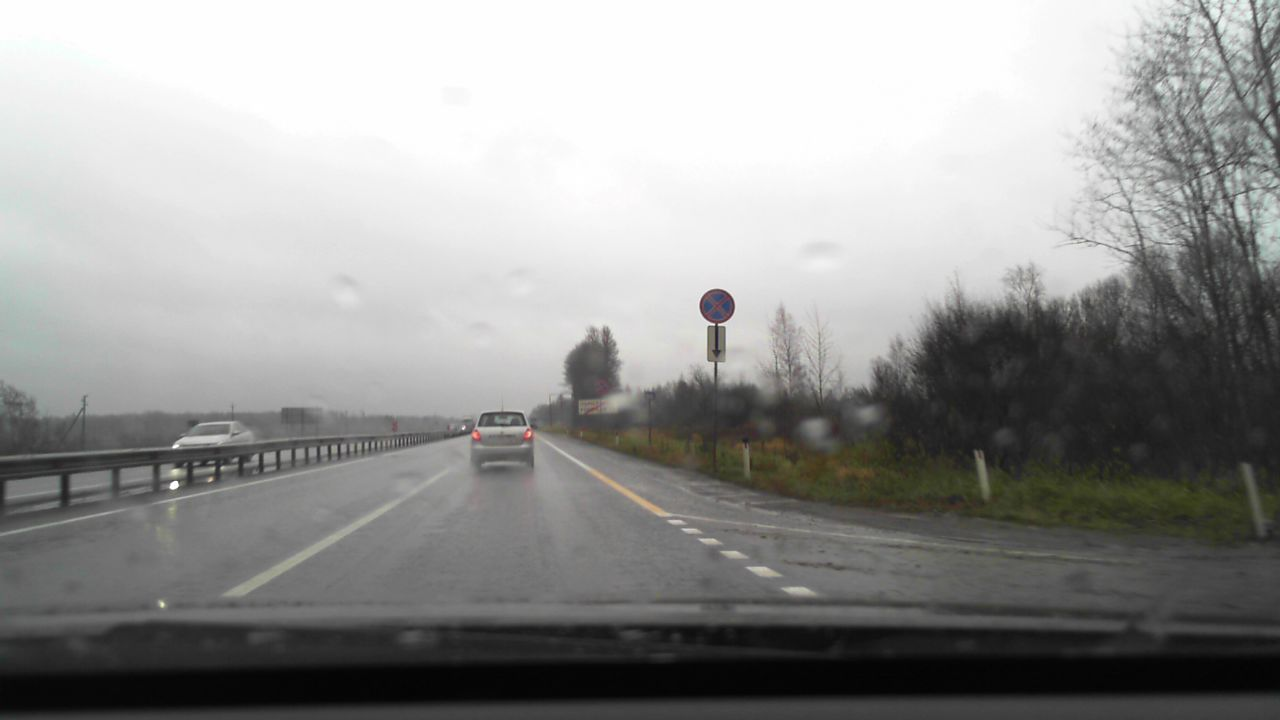No Parking: (699, 288, 734, 323)
